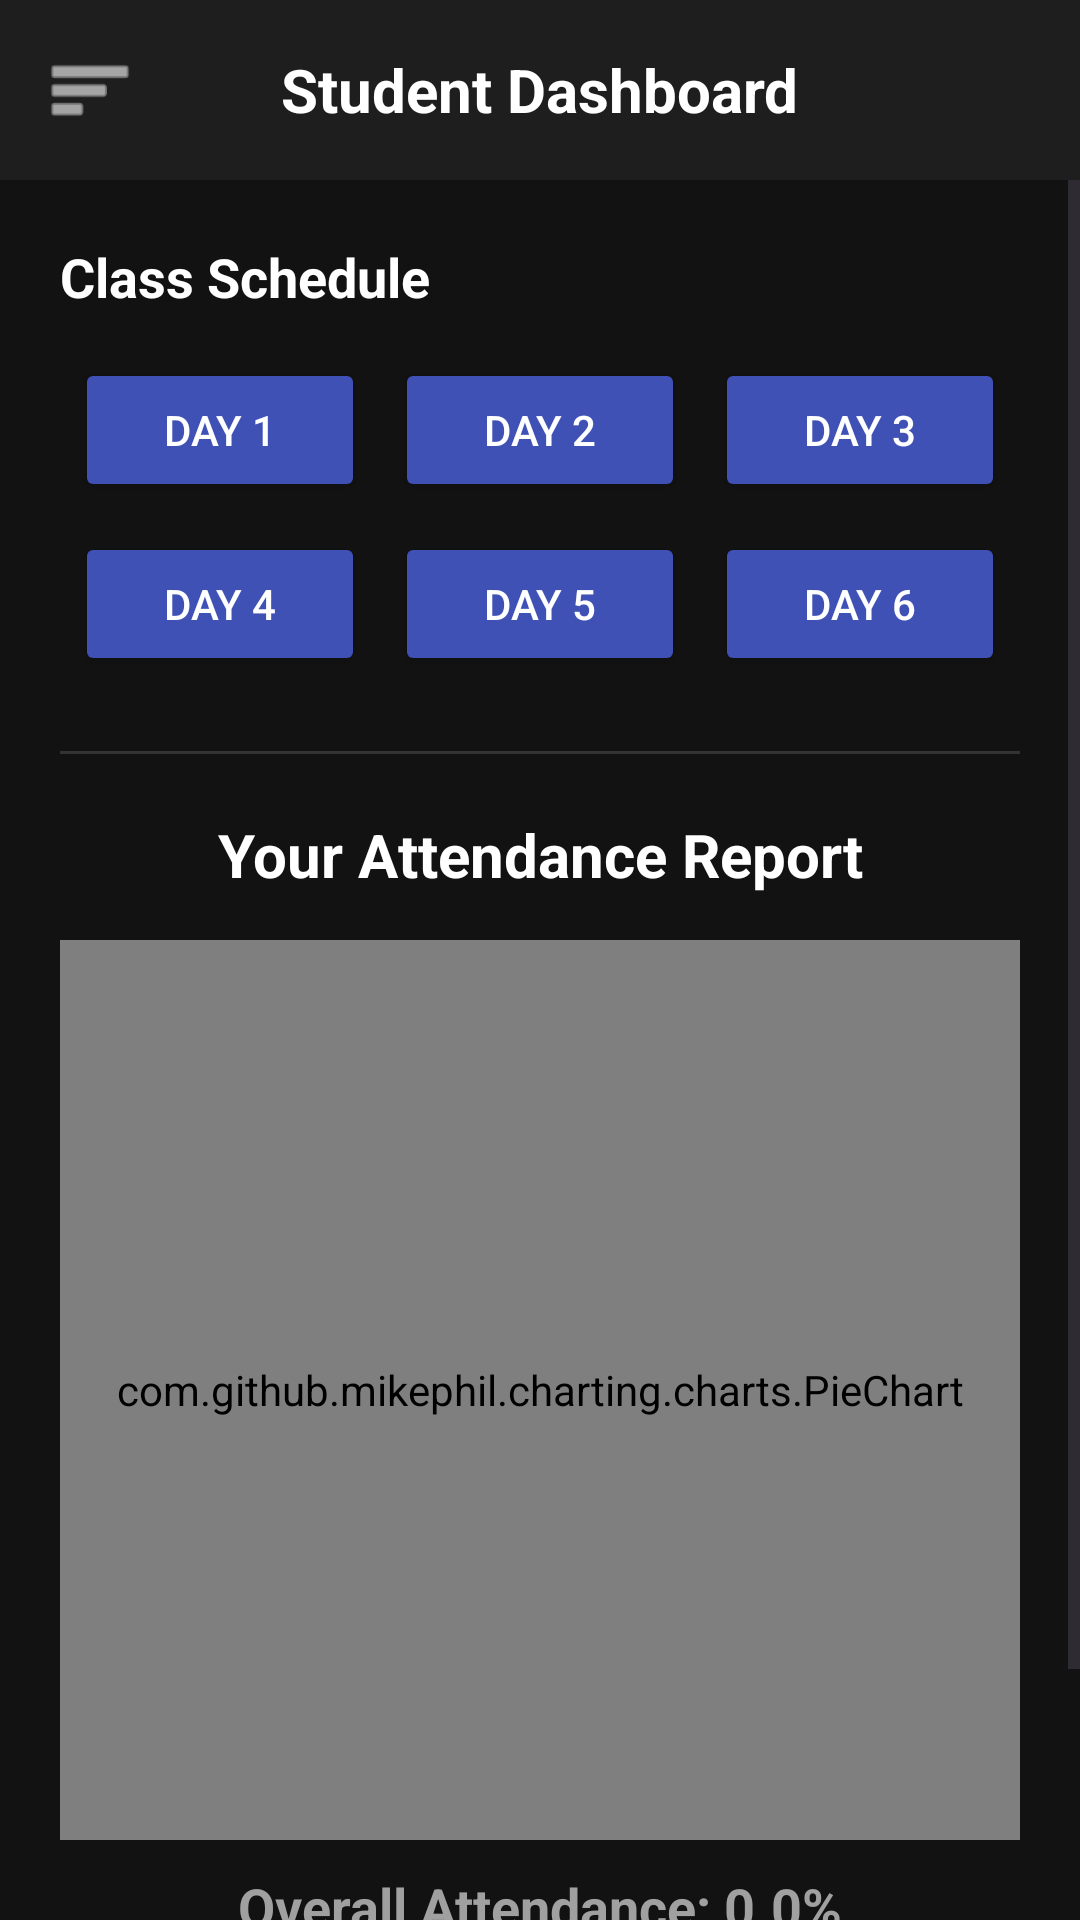

Icons on this 1080w x 1920h Android screen, each with the point to tap as [x,y]:
sort by size: [90,90]
